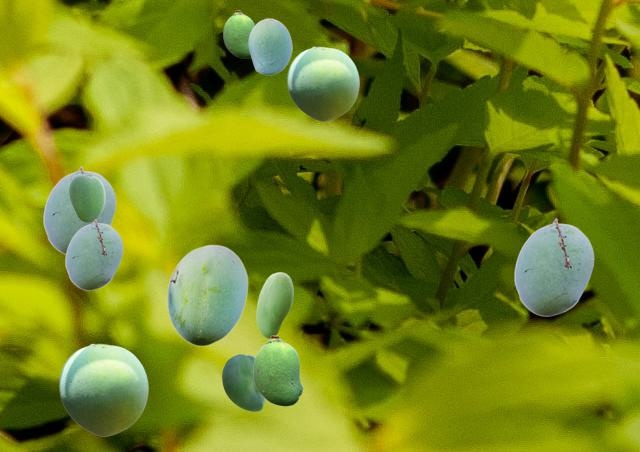green_mango: (166, 244, 247, 345), (59, 343, 147, 435), (514, 218, 593, 315), (43, 166, 115, 254), (287, 46, 358, 120), (65, 219, 122, 289), (253, 335, 302, 405), (222, 354, 265, 410), (248, 18, 291, 74), (256, 272, 292, 337), (69, 174, 104, 221), (223, 10, 254, 57)
